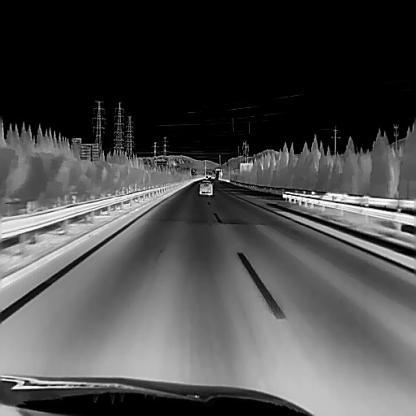car: (198, 178, 213, 194)
